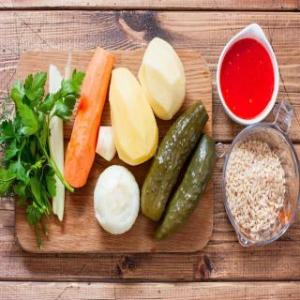carrot: (56, 44, 122, 188)
cucumber: (142, 98, 210, 224), (152, 132, 216, 244)
onion: (90, 162, 140, 236)
potato: (108, 64, 162, 167), (136, 33, 190, 123)
